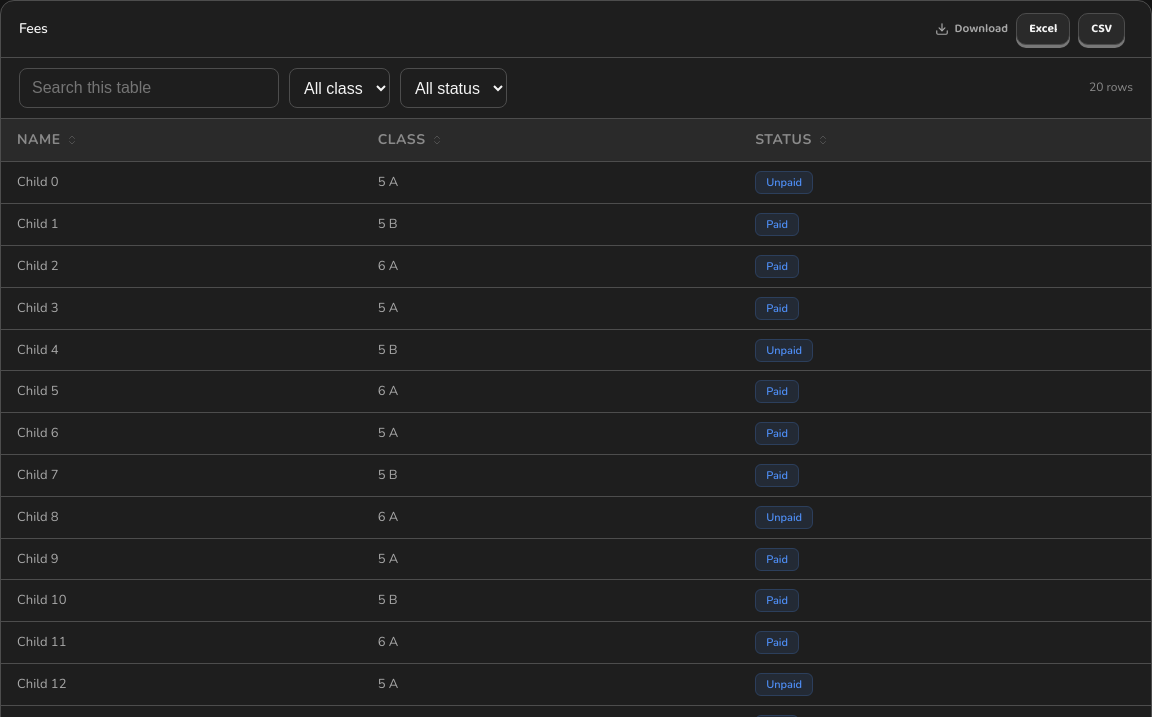
a filter sees through a cell that is drawn rather than written
Select "Unpaid" in the dropdown with test id "t-filter-2" at (454, 88), box [400,68,507,108]
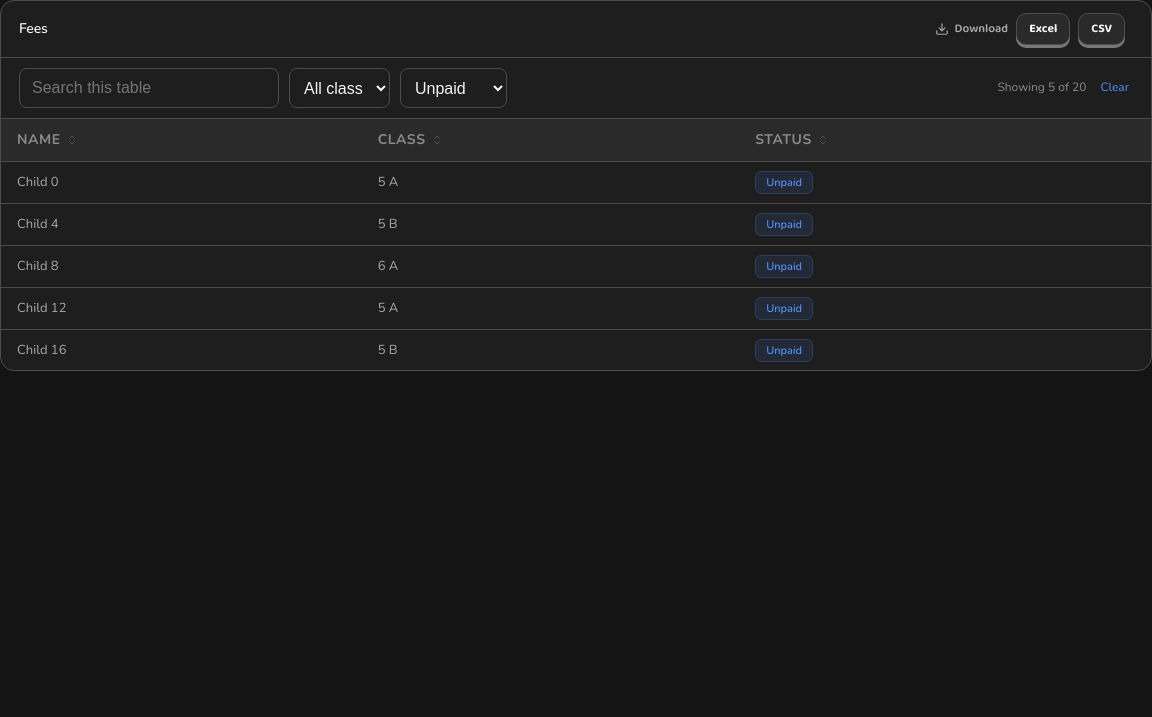
Now the text with test id "t-filter-count" reads "Showing 5 of 20", box [997,79,1086,95]
